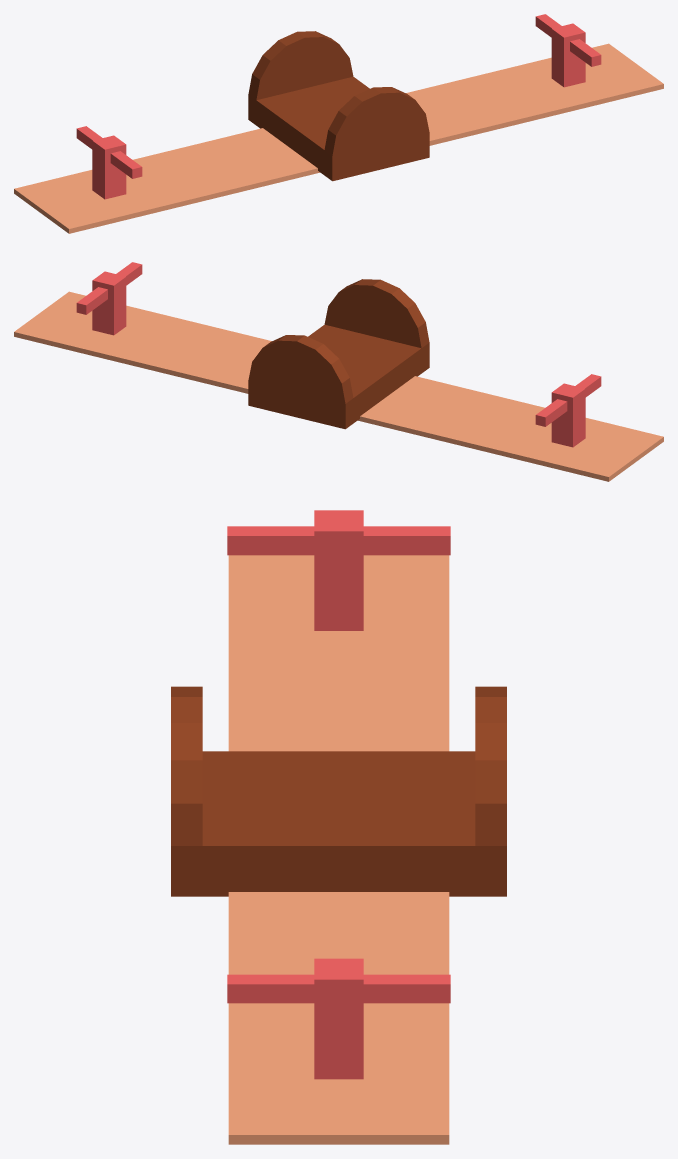
File: SM_playground_04_A.glb
3 views of the same model, one above another, from view 1: azimuth 30°, elevation 25°; view 2: azimuth 150°, elevation 25°; view 3: azimuth 270°, elevation 25° (orthographic). The views are drawn at different scales.
Parts seen in each view (by area): view 1: playground_04_A, SM_playground_04_A; view 2: playground_04_A, SM_playground_04_A; view 3: playground_04_A, SM_playground_04_A.
Boxes of the visible parts, <box> form: playground_04_A: <box>14,14,663,233</box>; SM_playground_04_A: <box>248,31,429,181</box>; playground_04_A: <box>14,262,663,481</box>; SM_playground_04_A: <box>248,279,429,429</box>; playground_04_A: <box>227,510,450,1144</box>; SM_playground_04_A: <box>171,686,506,896</box>.
Bounding box in the file's own units: 2.45 × 0.3229 × 0.6.
1 material, 1 textured.
